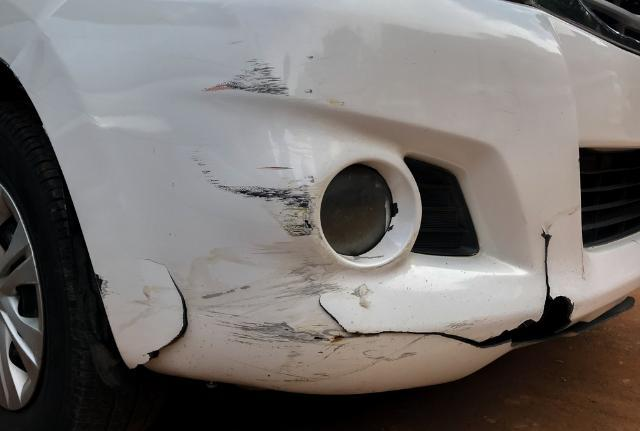Bumper: (114, 5, 585, 377)
